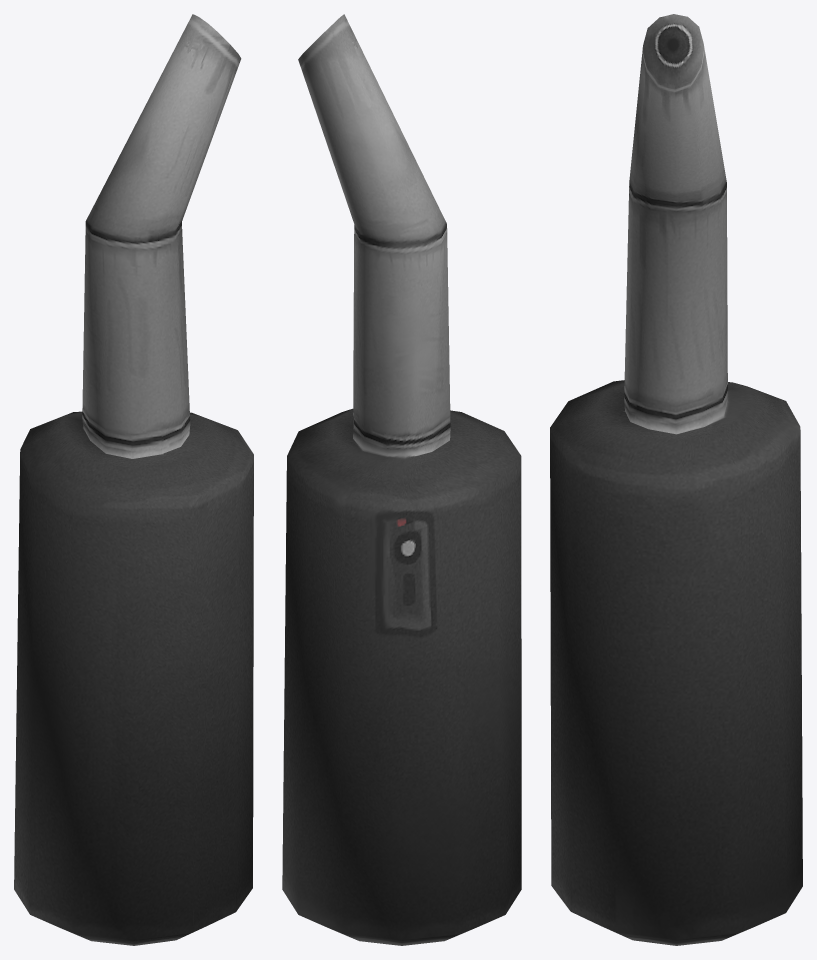
Rendered from Blowtorch.fbx.
The picture shows the model from 3 angles, left to right: view 1: azimuth 30°, elevation 25°; view 2: azimuth 150°, elevation 25°; view 3: azimuth 270°, elevation 25°; orthographic projection. The views are drawn at different scales.
Visible parts, largest first — view 1: Blowtorch; view 2: Blowtorch; view 3: Blowtorch.
Boxes of the visible parts, x1,y1,x2,y2 form: Blowtorch: [14, 14, 253, 945]; Blowtorch: [282, 14, 521, 945]; Blowtorch: [550, 14, 802, 945].
Bounding box in the file's own units: 42.31 × 171 × 42.29.
